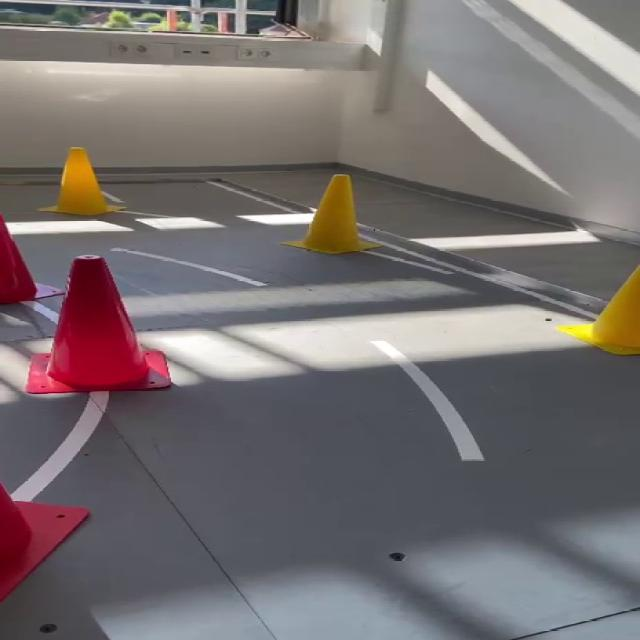Cone-red: (25, 256, 170, 394), (0, 482, 88, 602), (0, 216, 59, 305)
Cones-yellow: (284, 175, 378, 254), (559, 266, 639, 355), (44, 148, 121, 215)
